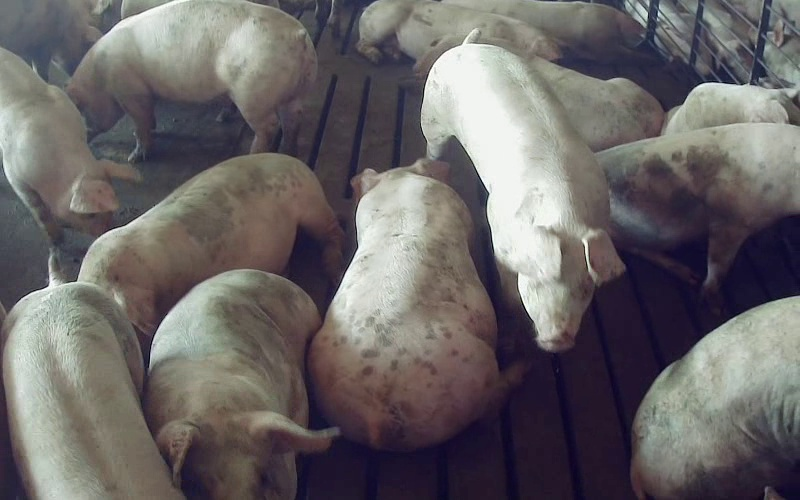pig: (308, 159, 524, 450), (78, 153, 342, 335), (144, 269, 338, 499), (3, 251, 181, 499), (66, 0, 316, 161), (598, 124, 799, 303), (443, 0, 652, 62), (356, 0, 560, 62)
